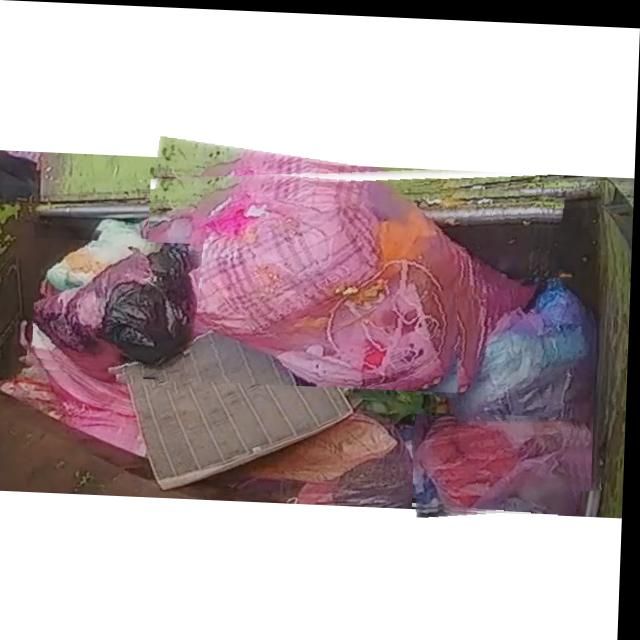other_trashbag: (150, 168, 541, 386), (459, 275, 598, 484), (36, 242, 199, 373), (417, 414, 578, 507)
